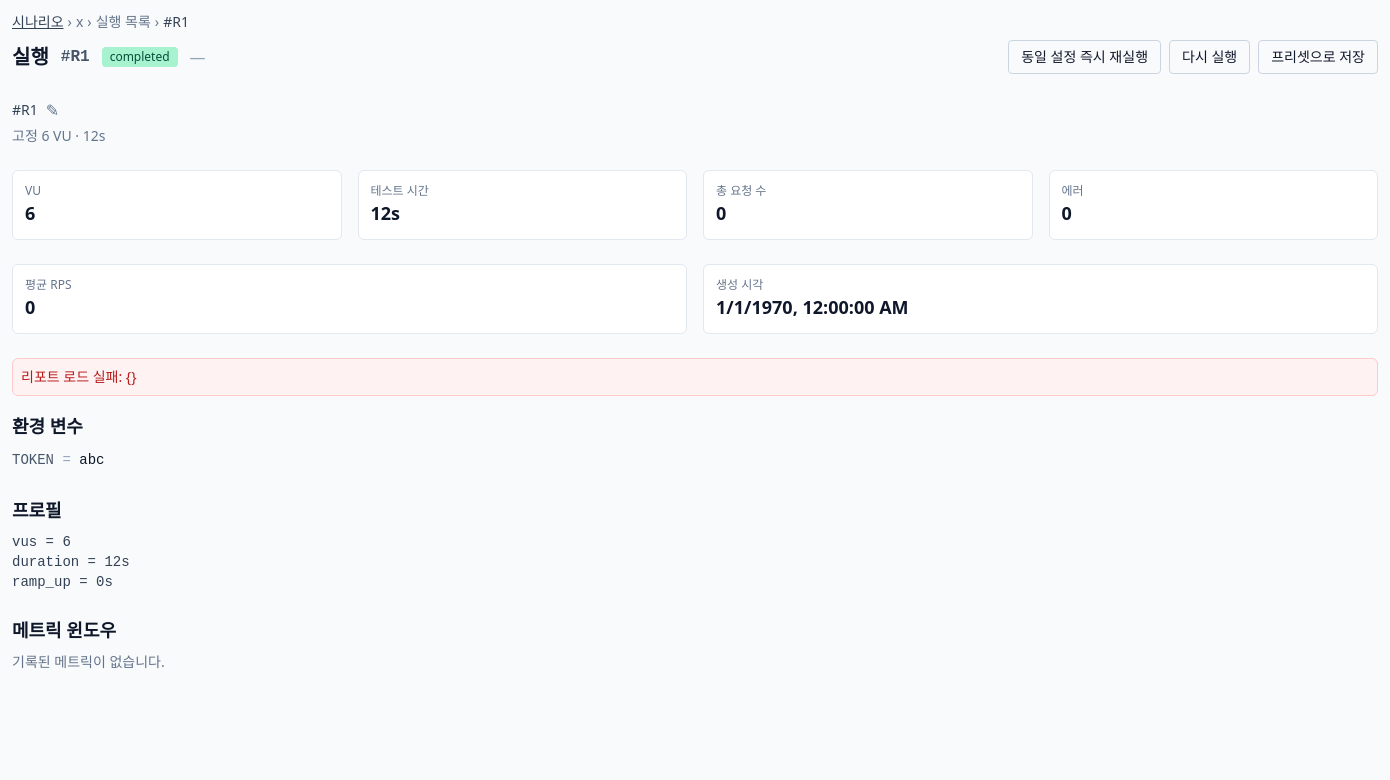
RunDetailPage — save preset (A2) › server 409 → error banner shown
Click the button "프리셋으로 저장" at (1318, 57), box [1258,40,1378,74]
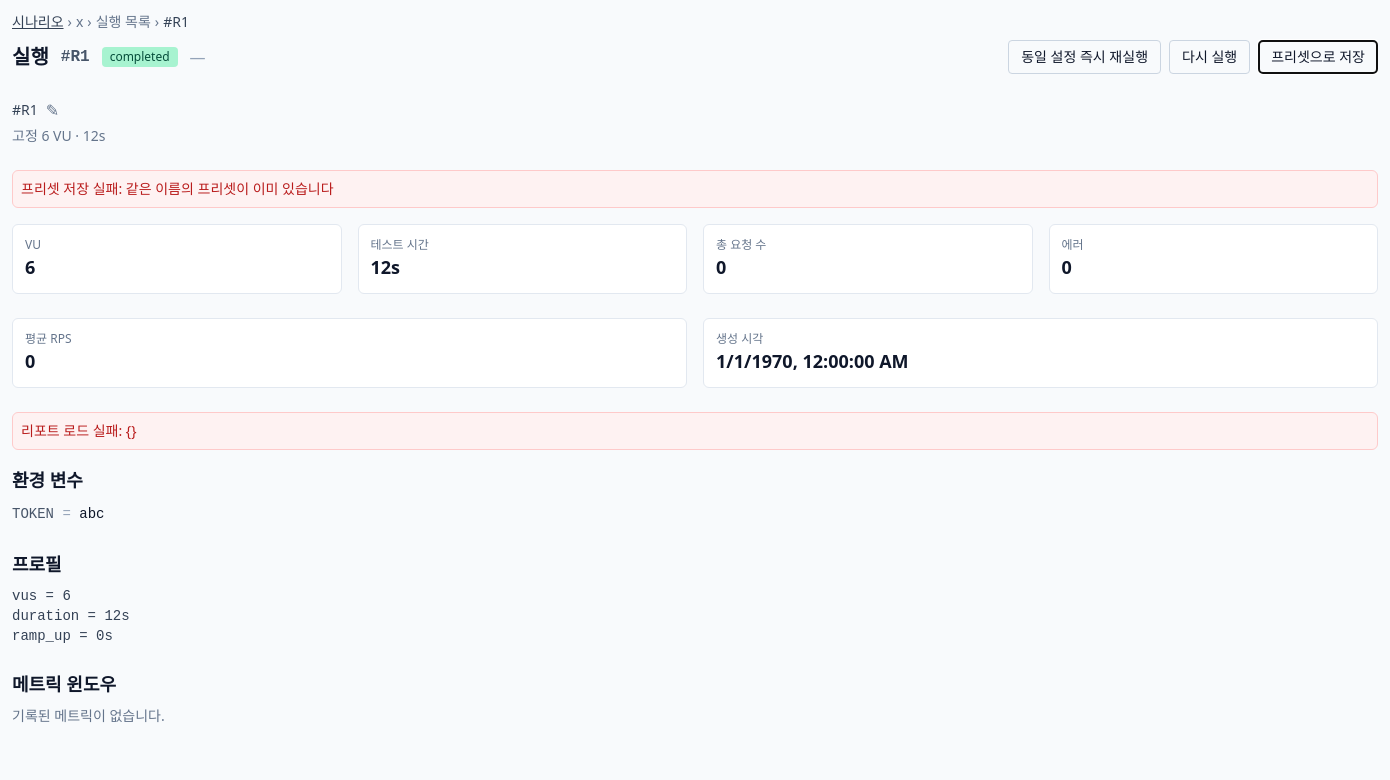
Result: the text "프리셋 저장 실패: 같은 이름의 프리셋이 이미 있습니다" is shown at [12,170,1378,208]
